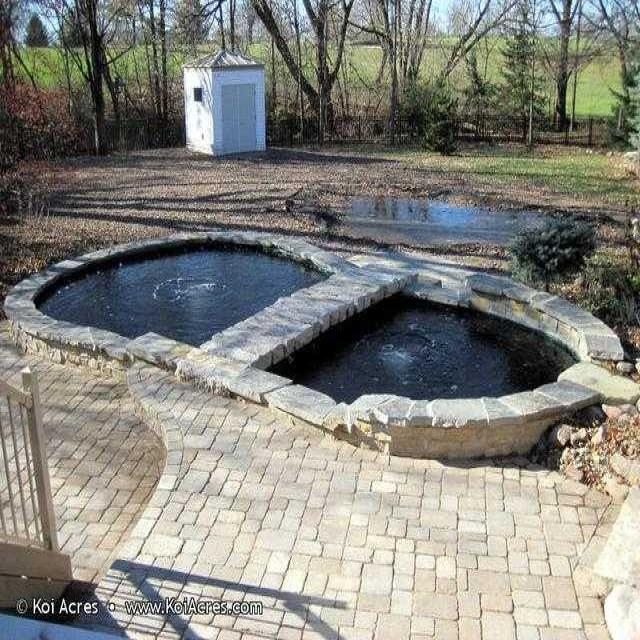Ponds: (197, 258, 626, 458), (5, 231, 392, 380)
